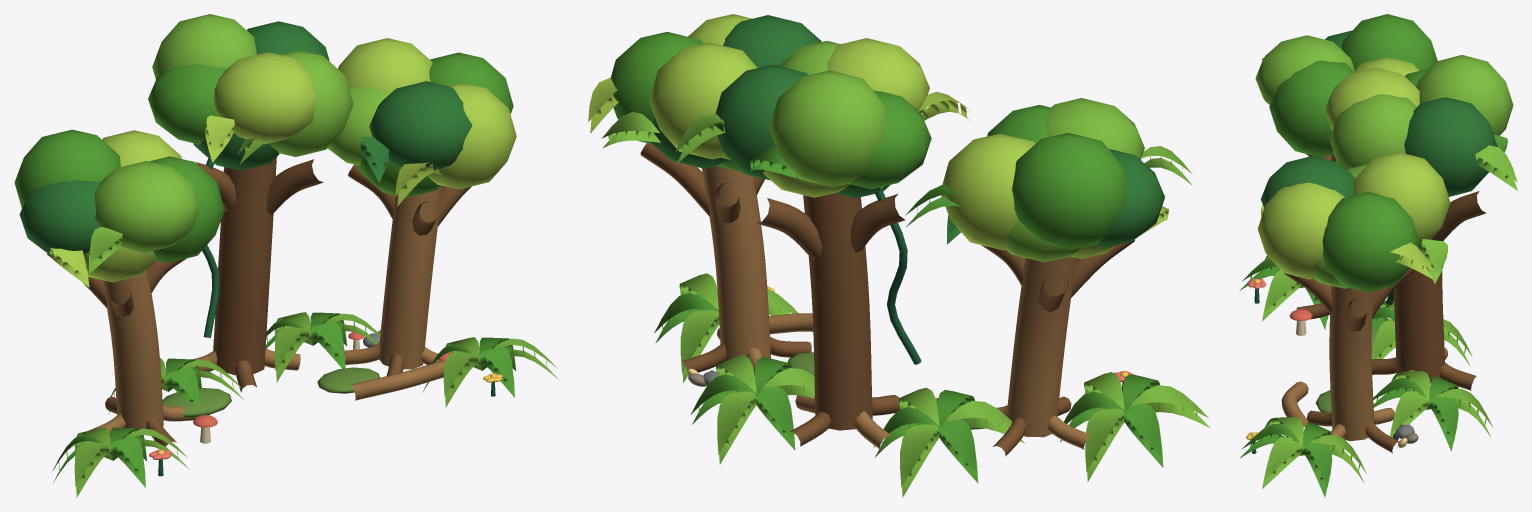
The model's file is terrain-forest.glb.
3 views of the same model, side by side, from view 1: azimuth 30°, elevation 25°; view 2: azimuth 150°, elevation 25°; view 3: azimuth 270°, elevation 25° (orthographic). The views are drawn at different scales.
Visible parts, largest first — view 1: ForestDecor_LeafHighlight_5, ForestDecor_YoungLeaf_6, ForestDecor_LeafBright_4, ForestDecor_SculptedBarkLight_0, ForestDecor_SculptedBark_2, ForestDecor_LeafDark_3, ForestDecor_ForestMoss_16, ForestDecor_IslandGrassDark_7; view 2: ForestDecor_LeafHighlight_5, ForestDecor_LeafBright_4, ForestDecor_SculptedBark_2, ForestDecor_YoungLeaf_6, ForestDecor_SculptedBarkLight_0, ForestDecor_LeafDark_3, ForestDecor_IslandGrassDark_7; view 3: ForestDecor_LeafBright_4, ForestDecor_LeafHighlight_5, ForestDecor_YoungLeaf_6, ForestDecor_SculptedBark_2, ForestDecor_LeafDark_3, ForestDecor_SculptedBarkLight_0, ForestDecor_ForestMoss_16.
Part boxes in pixels (x1=…): ForestDecor_LeafHighlight_5: x1=74, y1=14, x2=558, y2=497; ForestDecor_YoungLeaf_6: x1=50, y1=38, x2=516, y2=287; ForestDecor_LeafBright_4: x1=14, y1=52, x2=515, y2=487; ForestDecor_SculptedBarkLight_0: x1=89, y1=185, x2=445, y2=436; ForestDecor_SculptedBark_2: x1=47, y1=157, x2=471, y2=446; ForestDecor_LeafDark_3: x1=19, y1=21, x2=472, y2=255; ForestDecor_ForestMoss_16: x1=162, y1=367, x2=379, y2=417; ForestDecor_IslandGrassDark_7: x1=158, y1=158, x2=495, y2=476; ForestDecor_LeafHighlight_5: x1=601, y1=41, x2=1209, y2=497; ForestDecor_LeafBright_4: x1=610, y1=31, x2=1163, y2=483; ForestDecor_SculptedBark_2: x1=640, y1=143, x2=1134, y2=456; ForestDecor_YoungLeaf_6: x1=588, y1=14, x2=1168, y2=258; ForestDecor_SculptedBarkLight_0: x1=702, y1=165, x2=1090, y2=449; ForestDecor_LeafDark_3: x1=650, y1=15, x2=1164, y2=247; ForestDecor_IslandGrassDark_7: x1=875, y1=190, x2=1123, y2=392; ForestDecor_LeafBright_4: x1=1239, y1=14, x2=1507, y2=497; ForestDecor_LeafHighlight_5: x1=1255, y1=35, x2=1517, y2=488; ForestDecor_YoungLeaf_6: x1=1257, y1=57, x2=1450, y2=279; ForestDecor_SculptedBark_2: x1=1284, y1=154, x2=1486, y2=453; ForestDecor_LeafDark_3: x1=1260, y1=30, x2=1497, y2=250; ForestDecor_SculptedBarkLight_0: x1=1281, y1=154, x2=1448, y2=445; ForestDecor_ForestMoss_16: x1=1315, y1=327, x2=1379, y2=412.
Bounding box in the file's own units: 1.78 × 1.28 × 0.9488.
